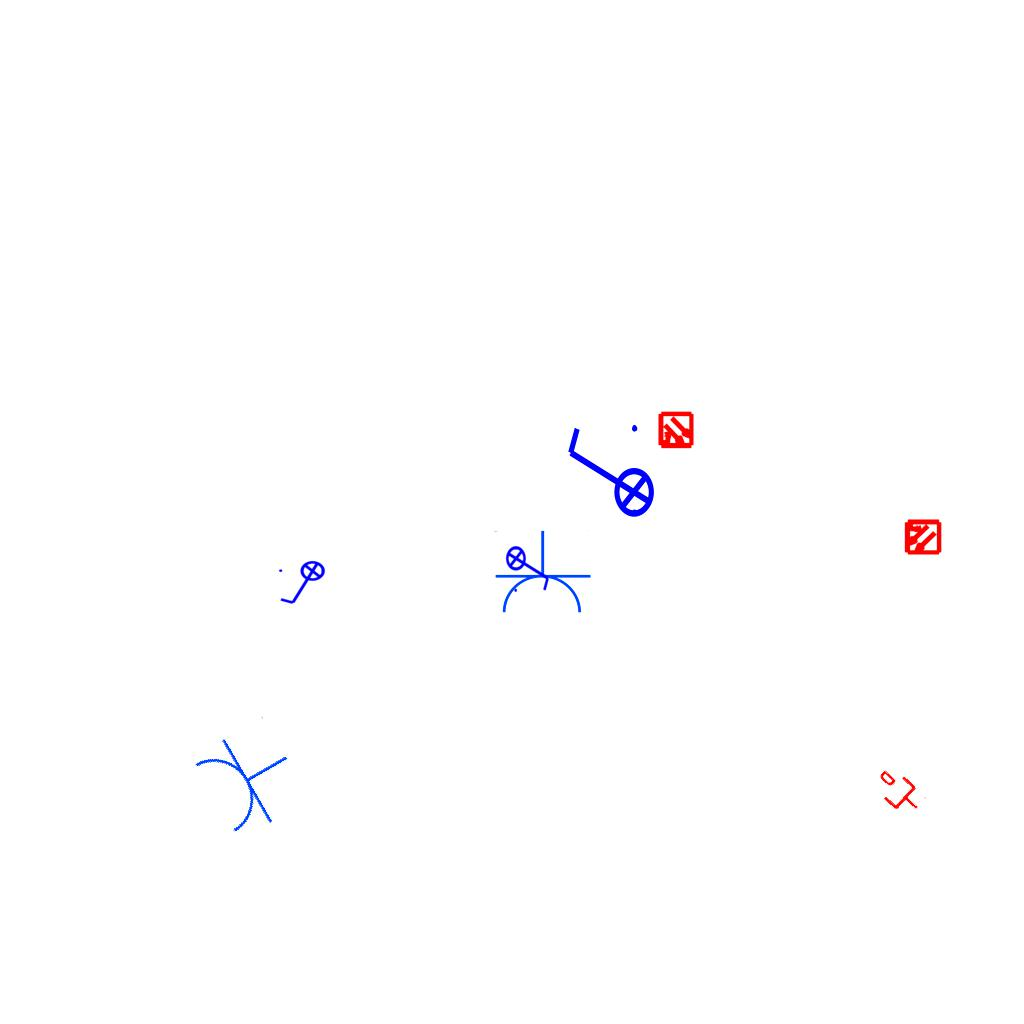Ausschalter_beleuchtet: (560, 419, 656, 531), (276, 560, 332, 608), (505, 539, 553, 595)
Datenanschluss_einfach: (869, 762, 929, 822)
OT_Multisensormelder_(Kombination_RMO_WMD): (648, 403, 704, 459), (894, 509, 950, 565)
Schukosteckdose_einfach: (186, 713, 312, 844), (492, 530, 592, 617)
